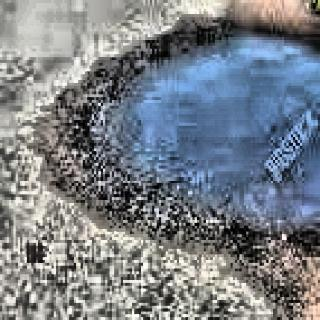pothole: (66, 3, 320, 258)
